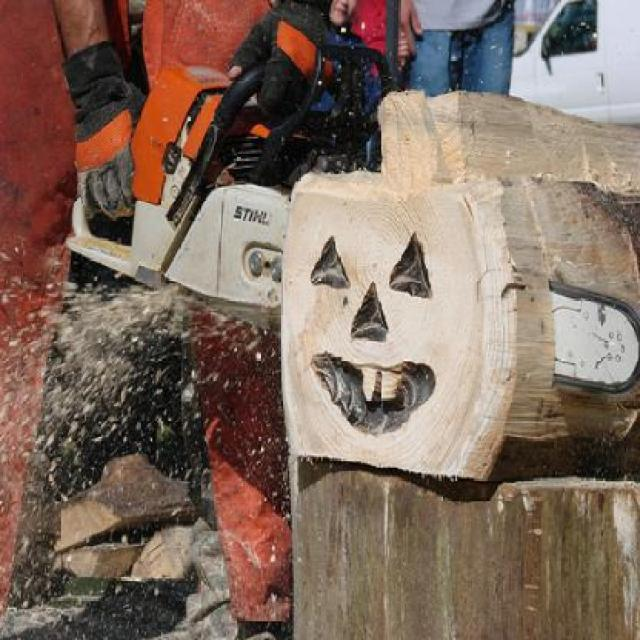Chainsaw: (61, 3, 638, 399)
